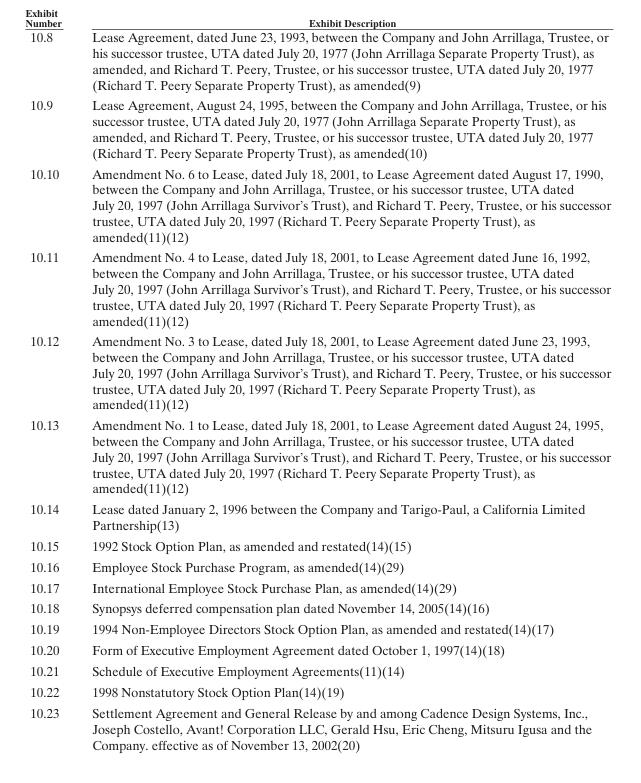table: (29, 28, 610, 751)
table column: (74, 28, 610, 751), (29, 28, 74, 751)
table row: (29, 162, 610, 246), (29, 246, 610, 330), (29, 330, 610, 414), (29, 414, 610, 498), (29, 94, 610, 162), (29, 28, 610, 94), (29, 701, 610, 751), (29, 498, 610, 534), (29, 534, 610, 555), (29, 555, 610, 576), (29, 576, 610, 597), (29, 597, 610, 618), (29, 618, 610, 639), (29, 639, 610, 660), (29, 660, 610, 681), (29, 681, 610, 701)
